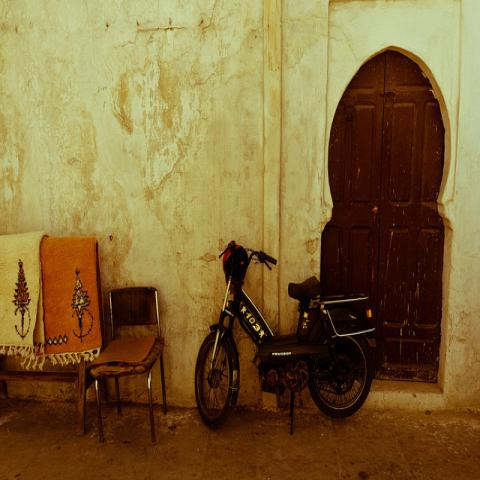motorcycle: (196, 240, 377, 433)
